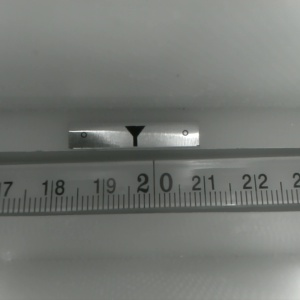0: (159, 172, 172, 193)
1: (41, 180, 48, 196), (93, 178, 99, 194), (208, 175, 214, 191)
2: (136, 173, 148, 193), (191, 175, 201, 191), (241, 174, 251, 189), (258, 174, 268, 189), (292, 172, 300, 188)
7: (1, 181, 12, 196)
8: (54, 180, 64, 195)
9: (106, 178, 116, 194)
finger: (122, 126, 145, 147)
